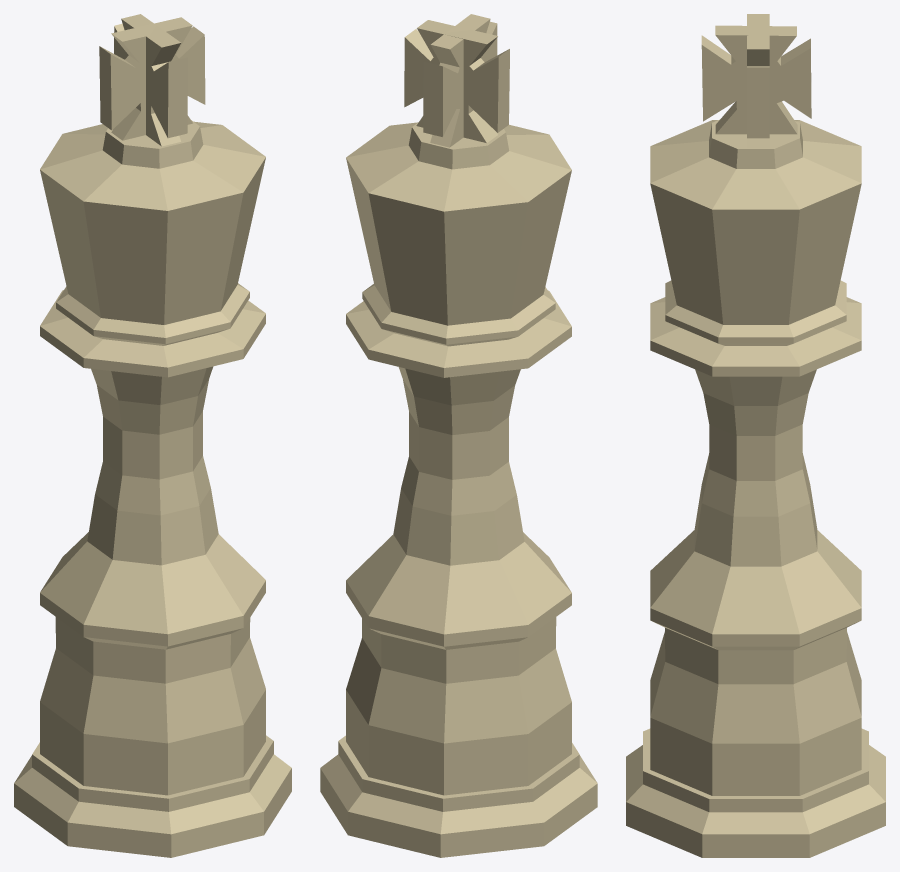
Rendered from king.fbx.
The picture shows the model from 3 angles, left to right: view 1: azimuth 30°, elevation 25°; view 2: azimuth 150°, elevation 25°; view 3: azimuth 270°, elevation 25°; orthographic projection.
Visible parts, largest first — view 1: Cylinder_7; view 2: Cylinder_7; view 3: Cylinder_7.
Part boxes in pixels (box(x1,y1,x2,y2)): Cylinder_7: box(14, 14, 291, 857); Cylinder_7: box(320, 14, 597, 857); Cylinder_7: box(626, 14, 885, 857).
Size of the model in its own units: 126 by 413 by 126.
